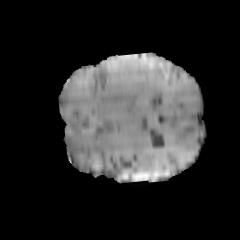glioma: (93, 56, 165, 114)
